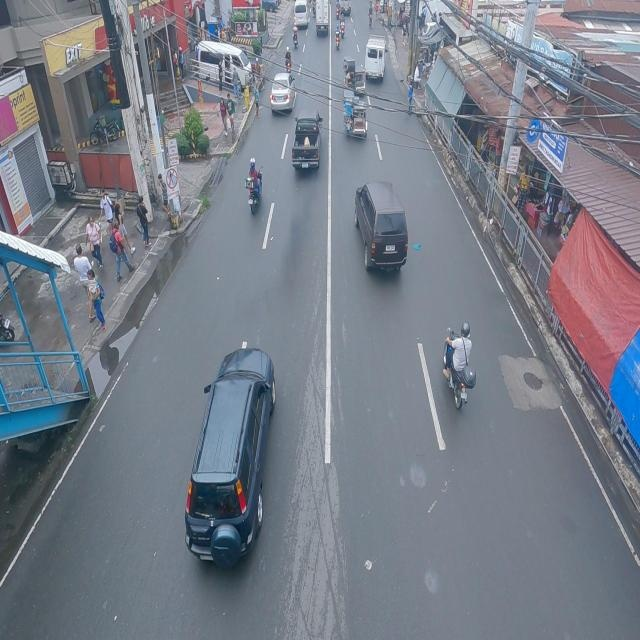Motorcycle: (443, 327, 478, 411), (244, 163, 264, 216)
Truck: (291, 108, 323, 172)
